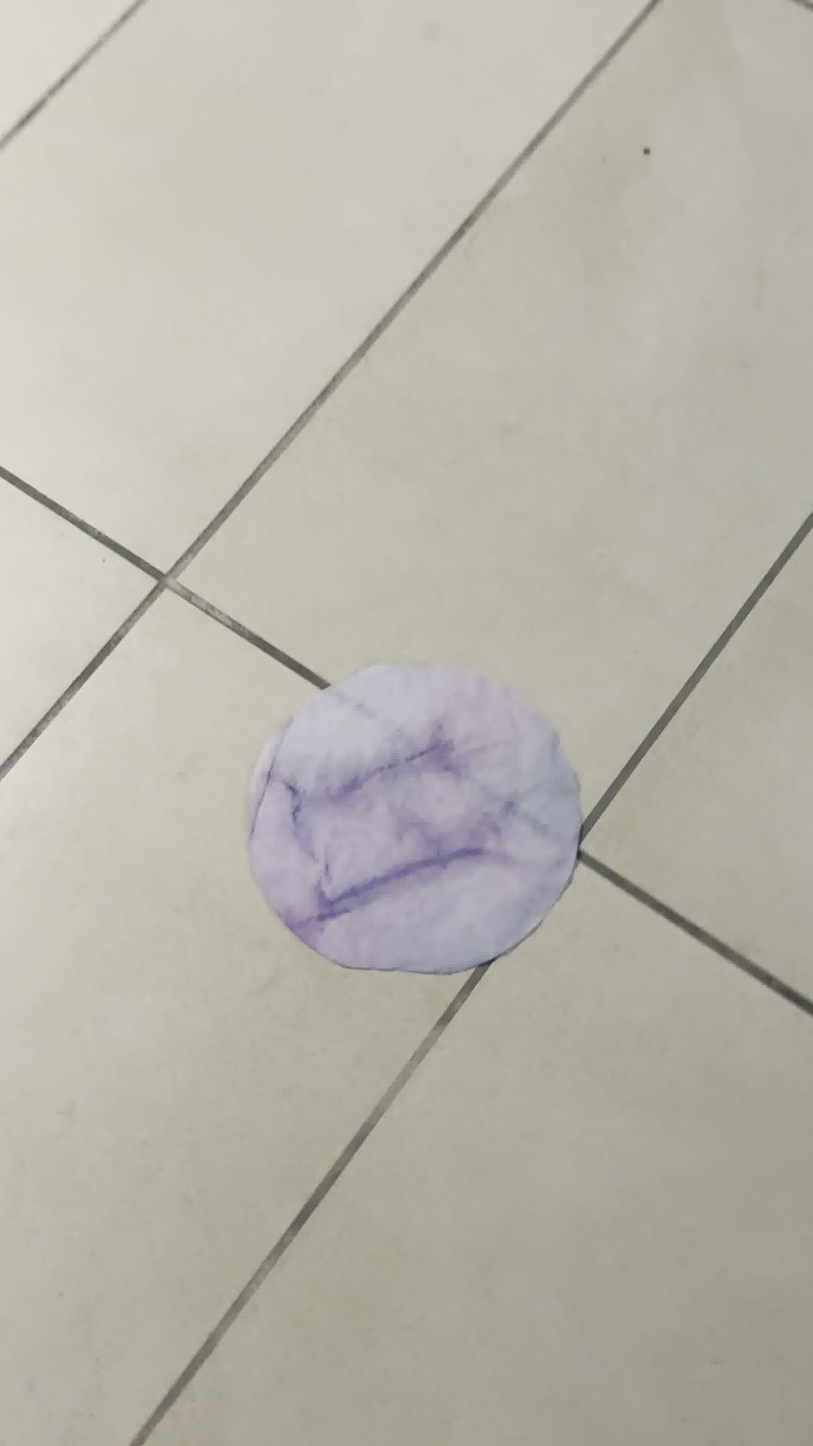Target: (244, 658, 580, 978)
